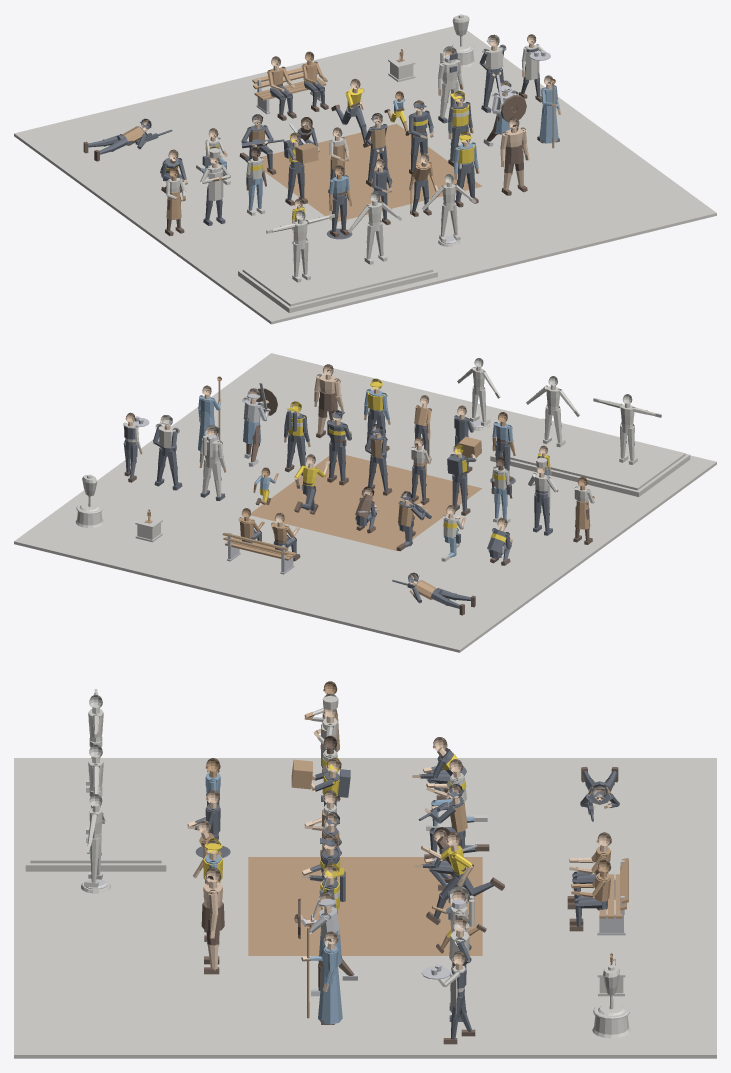
Rendered from low-poly-character-figures-reference-line-up-b0acea2a__36397.glb.
The picture shows the model from 3 angles, top to bottom: view 1: azimuth 30°, elevation 25°; view 2: azimuth 150°, elevation 25°; view 3: azimuth 270°, elevation 25°; orthographic projection. The views are drawn at different scales.
Parts seen in each view (by area): view 1: 008-plaza-paving-square/0, 000-plaza-paving-square/0, 005-plaza-paving-square/0, 001-plaza-paving-square/0, 006-plaza-paving-square/0, 003-plaza-paving-square/0, 009-reference-dais/0, 007-plaza-paving-square/0, 004-plaza-paving-square/0, 002-plaza-paving-square/0, 011-reference-figure-a-pose/0, 010-reference-figure-t-pose/0 (+18 smaller); view 2: 000-plaza-paving-square/0, 006-plaza-paving-square/0, 003-plaza-paving-square/0, 001-plaza-paving-square/0, 004-plaza-paving-square/0, 007-plaza-paving-square/0, 008-plaza-paving-square/0, 009-reference-dais/0, 005-plaza-paving-square/0, 002-plaza-paving-square/0, 010-reference-figure-t-pose/0, 011-reference-figure-a-pose/0 (+20 smaller); view 3: 008-plaza-paving-square/0, 006-plaza-paving-square/0, 000-plaza-paving-square/0, 007-plaza-paving-square/0, 003-plaza-paving-square/0, 005-plaza-paving-square/0, 004-plaza-paving-square/0, 001-plaza-paving-square/0, 009-reference-dais/0, 002-plaza-paving-square/0, 028-mage-with-staff/0, 012-shop-mannequin-turntable/turntable (+16 smaller).
Part boxes in pixels (<box>): 008-plaza-paving-square/0: <box>483,150,716,251</box>; 000-plaza-paving-square/0: <box>14,97,244,198</box>; 005-plaza-paving-square/0: <box>337,186,568,287</box>; 001-plaza-paving-square/0: <box>99,161,331,261</box>; 006-plaza-paving-square/0: <box>312,26,544,123</box>; 003-plaza-paving-square/0: <box>163,62,396,157</box>; 009-reference-dais/0: <box>238,234,437,312</box>; 007-plaza-paving-square/0: <box>397,88,630,186</box>; 004-plaza-paving-square/0: <box>258,124,482,221</box>; 002-plaza-paving-square/0: <box>185,223,419,324</box>; 011-reference-figure-a-pose/0: <box>348,192,401,264</box>; 010-reference-figure-t-pose/0: <box>266,210,334,282</box>; 000-plaza-paving-square/0: <box>311,551,545,652</box>; 006-plaza-paving-square/0: <box>14,479,243,580</box>; 003-plaza-paving-square/0: <box>162,515,396,616</box>; 001-plaza-paving-square/0: <box>397,488,631,589</box>; 004-plaza-paving-square/0: <box>250,453,481,550</box>; 007-plaza-paving-square/0: <box>100,416,329,512</box>; 008-plaza-paving-square/0: <box>186,353,419,450</box>; 009-reference-dais/0: <box>490,418,690,496</box>; 005-plaza-paving-square/0: <box>337,389,540,488</box>; 002-plaza-paving-square/0: <box>483,455,716,526</box>; 010-reference-figure-t-pose/0: <box>593,394,661,464</box>; 011-reference-figure-a-pose/0: <box>526,376,580,447</box>; 008-plaza-paving-square/0: <box>14,956,248,1058</box>; 006-plaza-paving-square/0: <box>482,956,716,1058</box>; 000-plaza-paving-square/0: <box>482,758,716,856</box>; 007-plaza-paving-square/0: <box>248,956,482,1058</box>; 003-plaza-paving-square/0: <box>482,857,716,955</box>; 005-plaza-paving-square/0: <box>14,857,248,955</box>; 004-plaza-paving-square/0: <box>248,857,482,955</box>; 001-plaza-paving-square/0: <box>248,758,482,856</box>; 009-reference-dais/0: <box>25,765,166,871</box>; 002-plaza-paving-square/0: <box>14,758,248,856</box>; 028-mage-with-staff/0: <box>309,946,342,1024</box>; 012-shop-mannequin-turntable/turntable: <box>84,794,105,887</box>.
Bounding box in the file's own units: 12 × 2.12 × 12.
